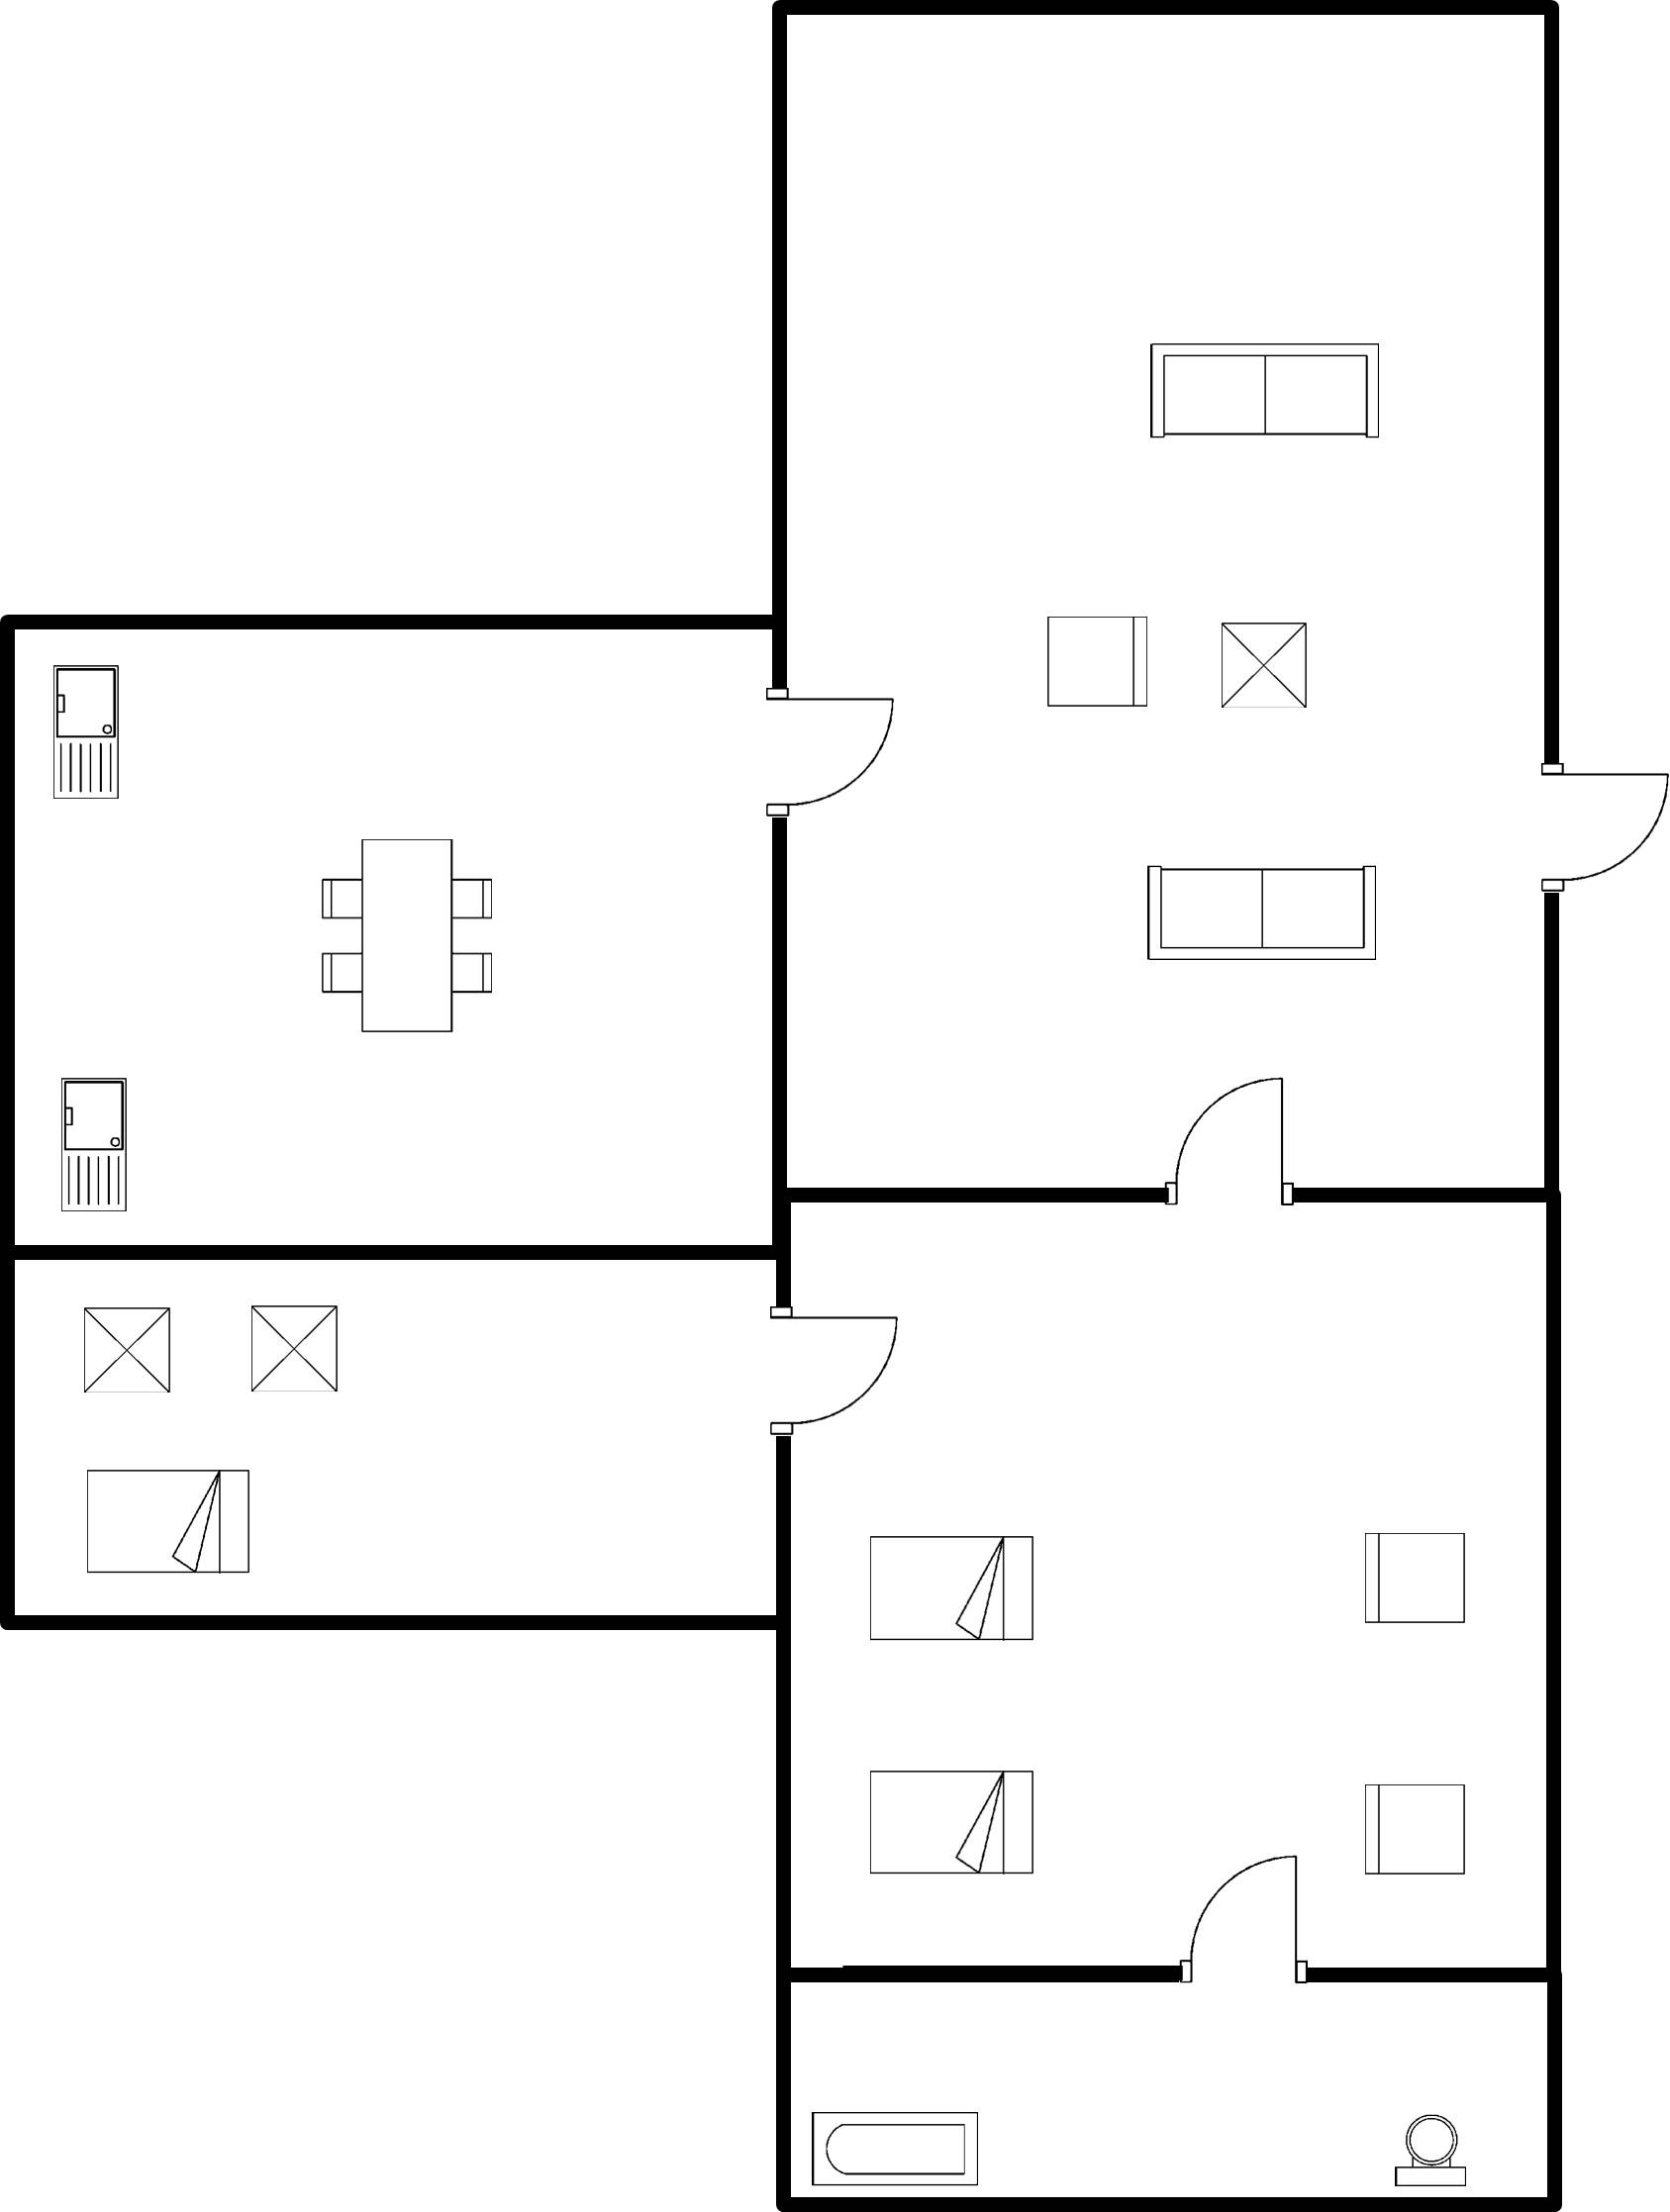bed: (67, 1447, 267, 1587), (852, 1753, 1053, 1890), (848, 1518, 1048, 1654)
coffee_table: (1210, 600, 1324, 728), (238, 1289, 346, 1413), (71, 1297, 181, 1421)
dining_table: (306, 821, 504, 1058)
large_sink: (1369, 2097, 1485, 2196)
large_sofa: (1130, 327, 1400, 470), (1130, 853, 1389, 978)
sink: (44, 651, 139, 819), (52, 1064, 141, 1232)
small_sofa: (1336, 1770, 1481, 1886), (1341, 1518, 1477, 1639), (1033, 600, 1156, 724)
tub: (801, 2088, 995, 2205)
